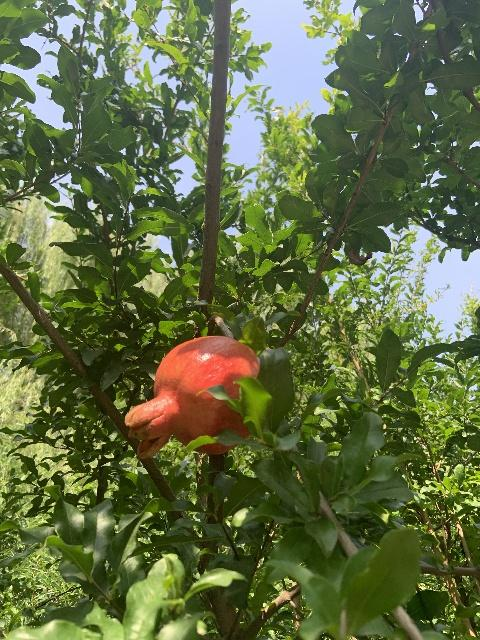ripe: (124, 336, 259, 458)
